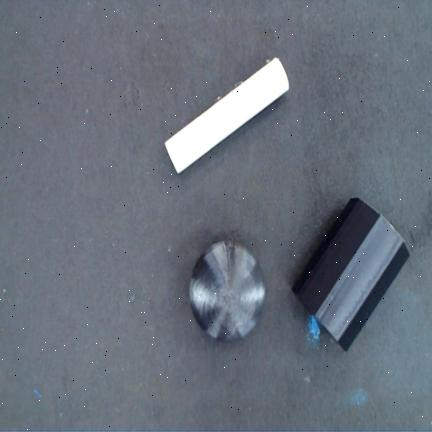Cilindro: (165, 58, 290, 175)
Esfera: (190, 240, 265, 342)
Prisma_hexagonal: (293, 198, 409, 352)
